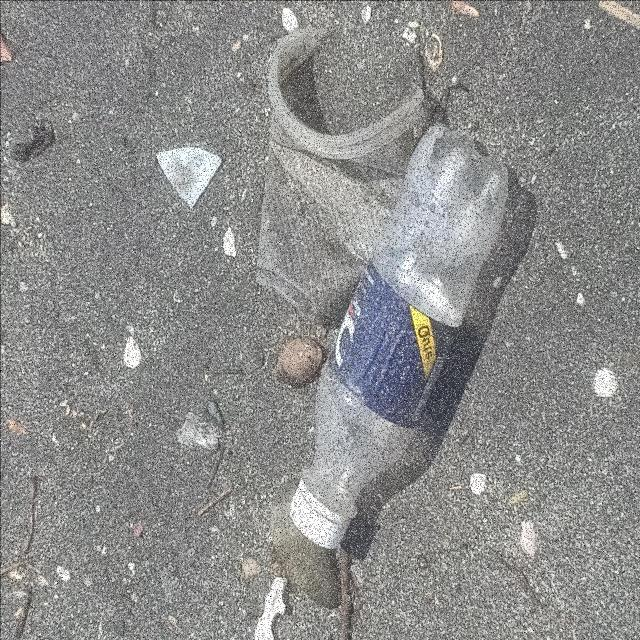plastic_waste: (288, 121, 510, 552), (255, 28, 426, 327)
